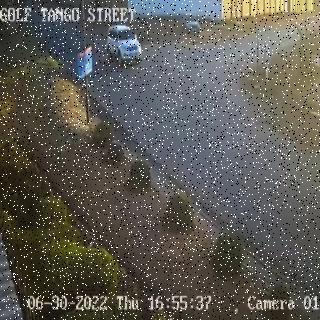car: (105, 23, 141, 64), (183, 17, 200, 34)
